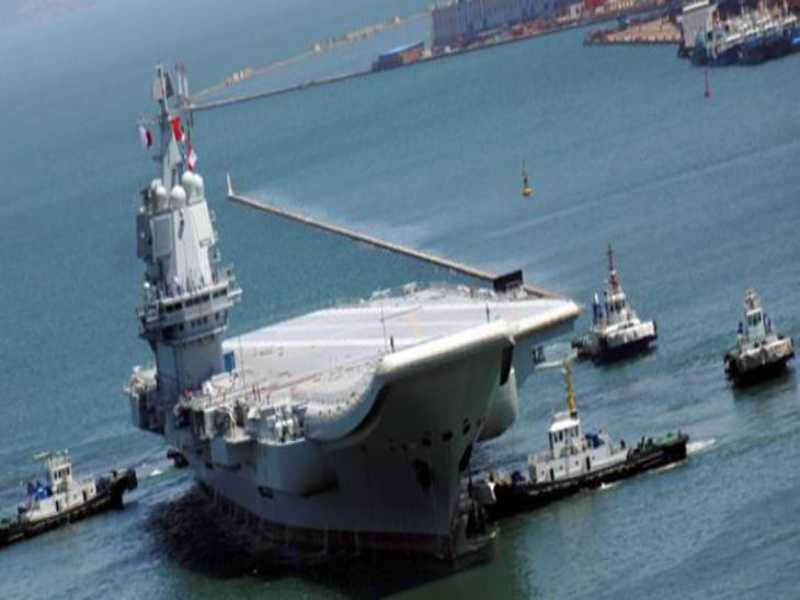boat: (508, 412, 685, 495), (10, 439, 126, 533), (574, 248, 663, 365), (719, 287, 794, 384)
carrier: (106, 103, 548, 584)
